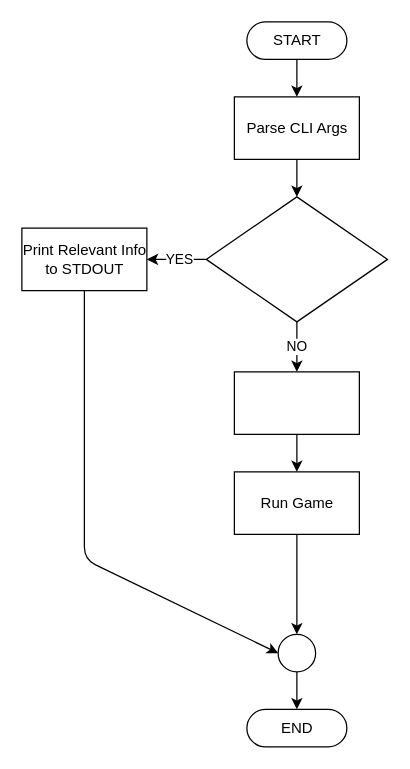
Image size: 410x769. Some labels were removed from this diagram. The shapes that lost their labels are listed below. From the top down, each one's centre as x and y in pixels, then its label:
At (x=296, y=259): "IF called w/ '--help' OR '--version'".
At (x=296, y=402): "Load SQLite DB".
